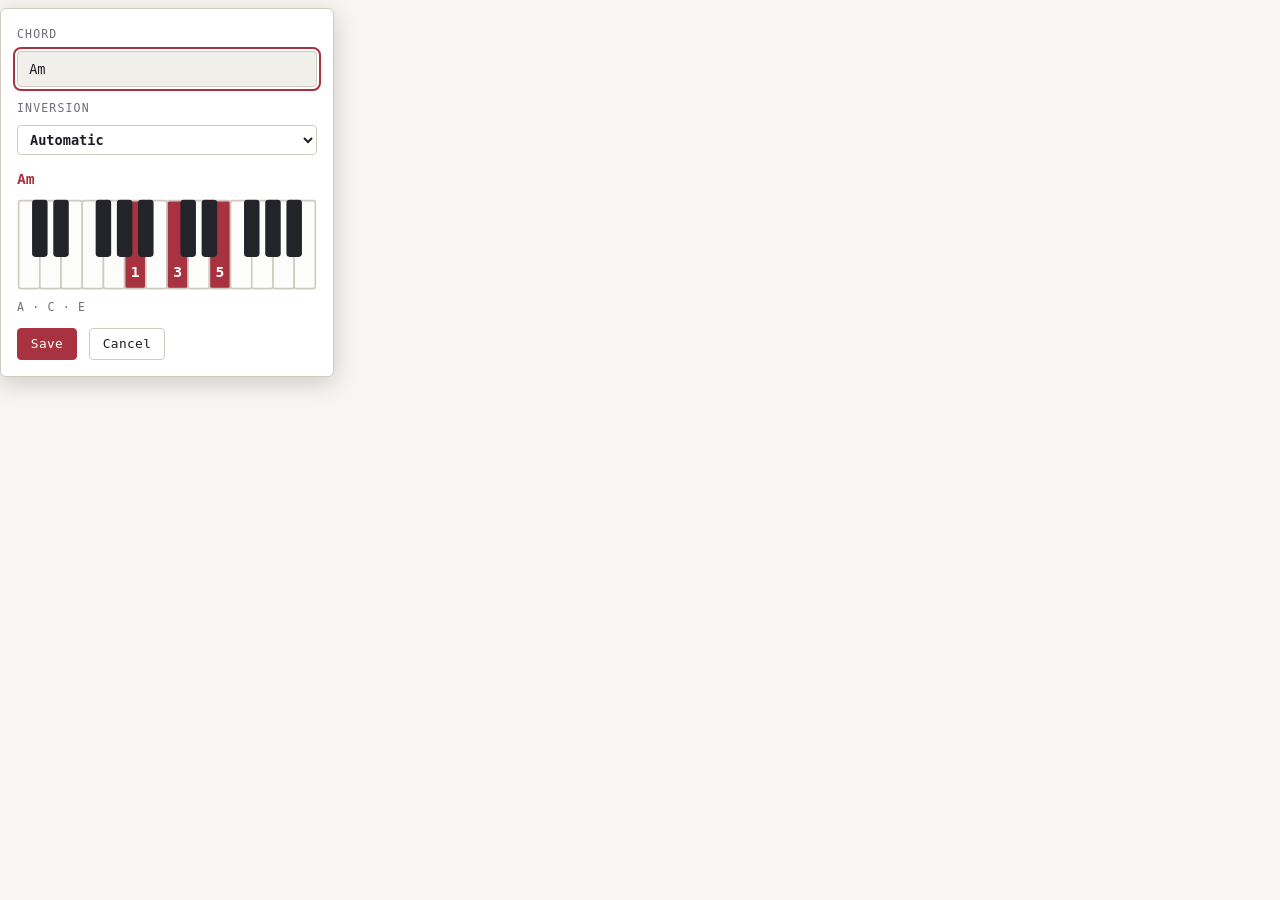
Test: ChordEditor › rejects an unreadable symbol in place
Replace the text in the field labelled "Chord" with "H7" at (167, 69), box [17,51,317,87]
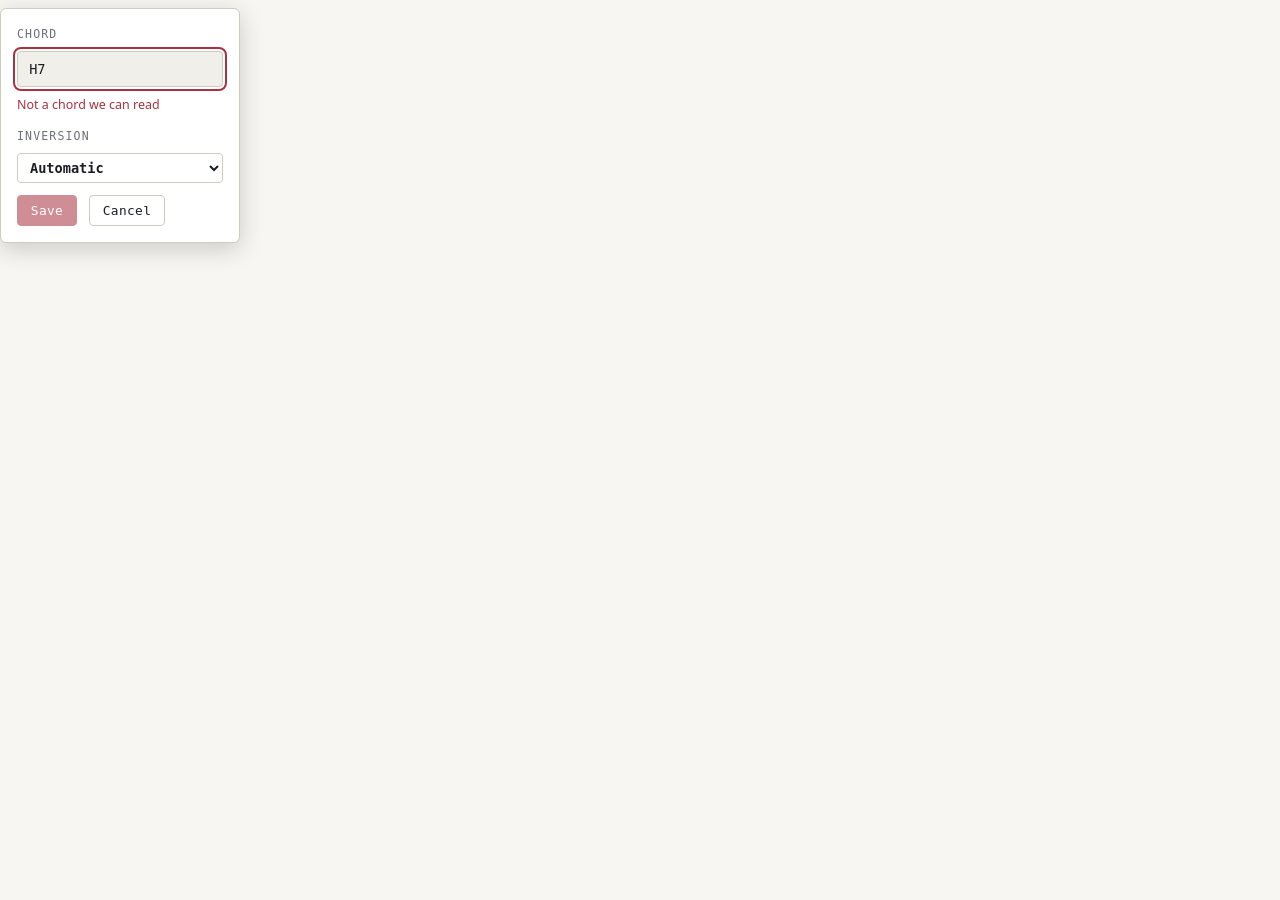
Now the text "Not a chord we can read" is shown, box [17,96,160,113]
Now the button "Save" is disabled, box [17,195,77,226]
